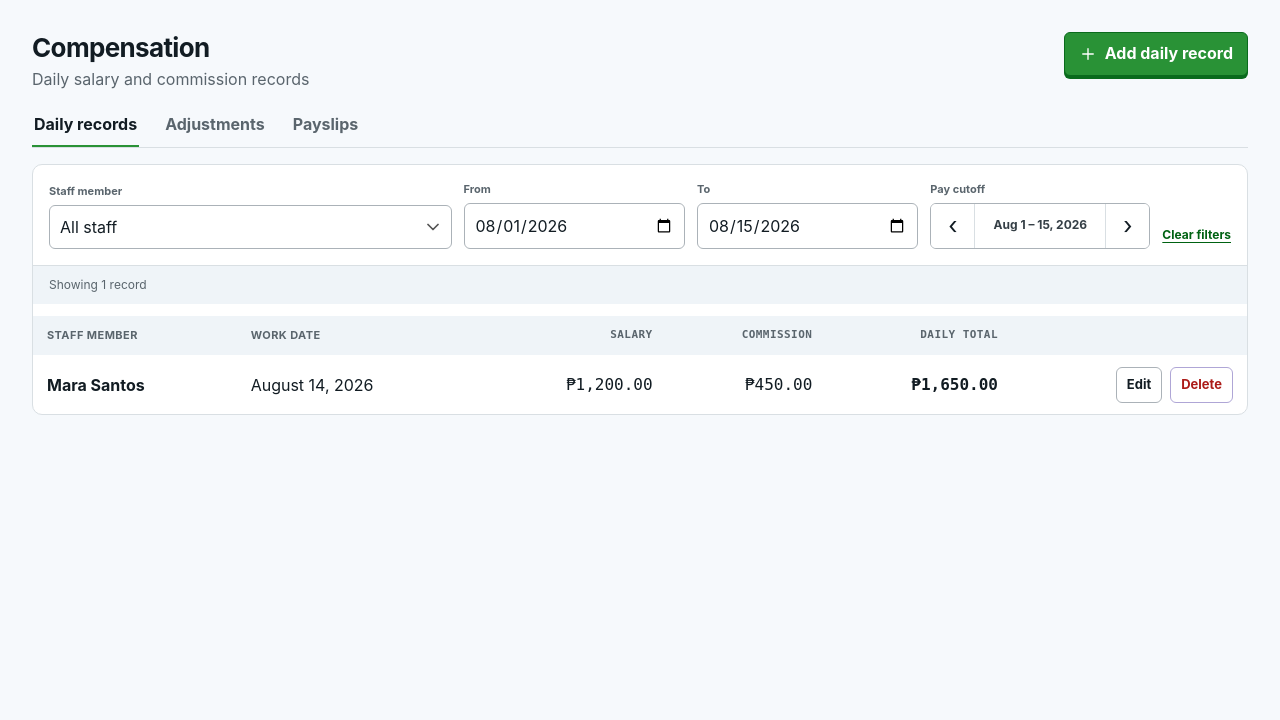
Scenario: CompensationPage › loads gross immediately and distinguishes no business day from a zero-sales day
Expected: the button with aria-label "Edit Mara Santos" is shown, 1116,366 -> 1162,402
Click the button "Add daily record": (1156, 54) 1064,32 -> 1248,76
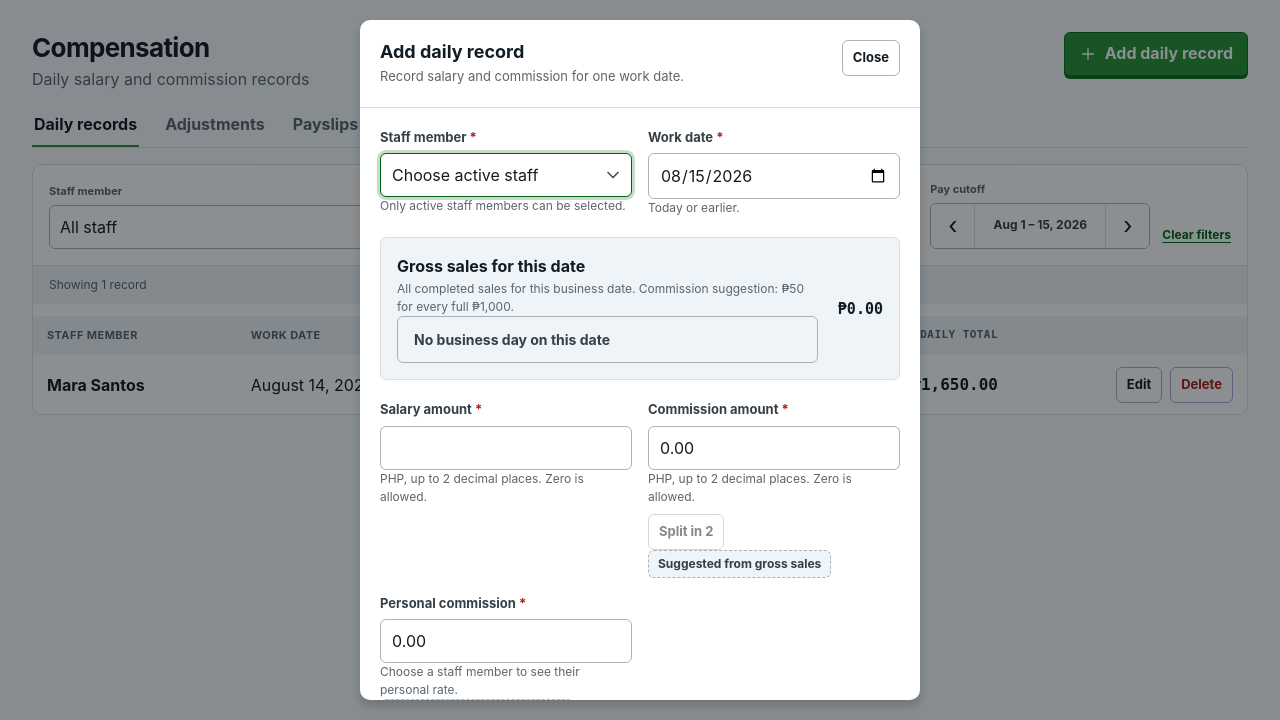
Result: the text "₱0.00" is shown at 838,298 -> 883,320
Result: the text "No business day on this date" is shown at 397,316 -> 818,363
Result: the field labelled "Commission amount *" holds "0.00" at 648,426 -> 900,470
In the date field labelled "Work date *": (774, 176) 648,153 -> 900,199, type "2026-08-14"
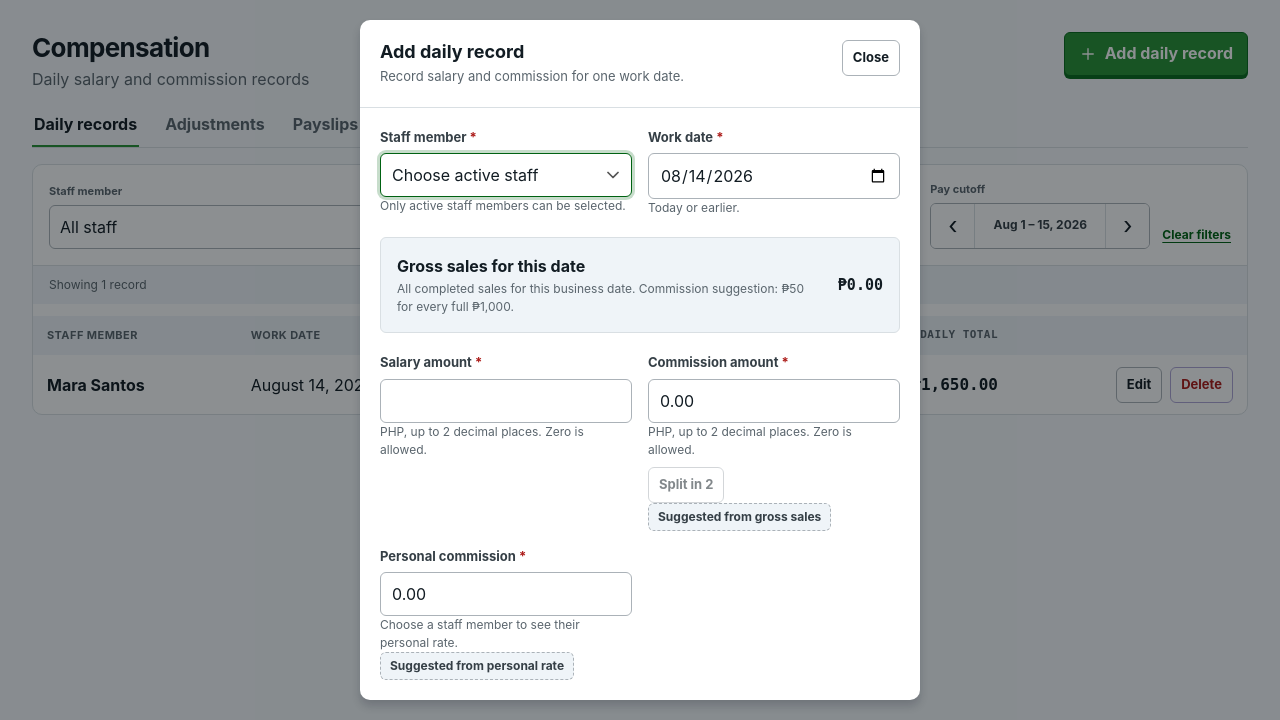
Result: the text "No business day on this date" is gone
